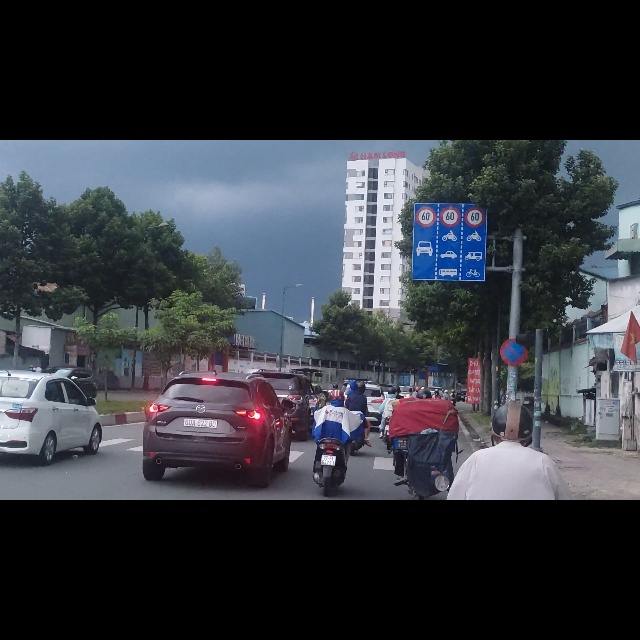bien_chi_dan: (412, 156, 485, 250), (500, 353, 527, 401), (440, 117, 461, 154), (416, 118, 436, 155), (465, 118, 485, 155)
